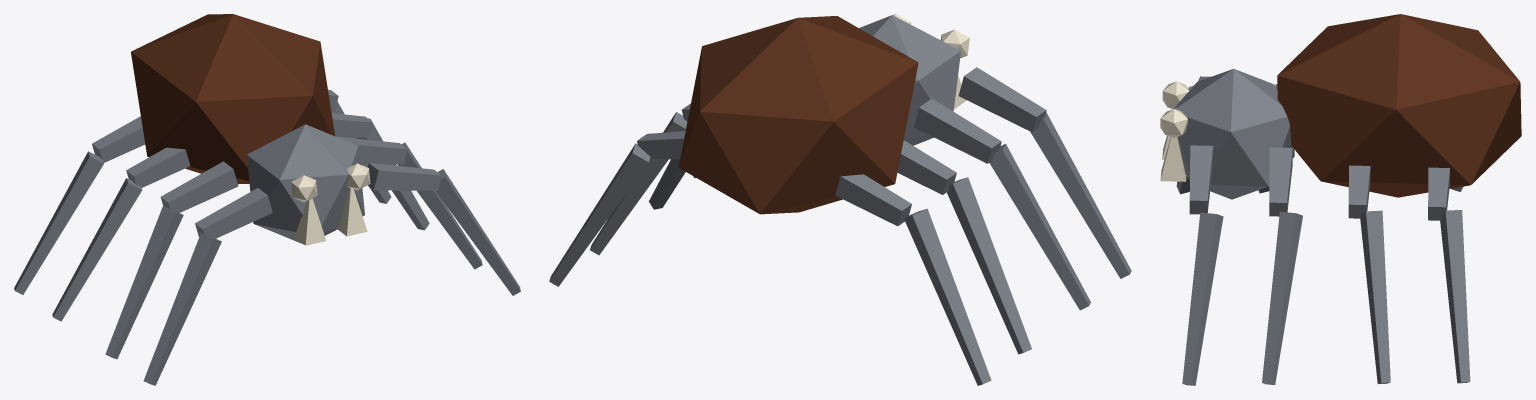
Rendered from npcpose_spider_idle_07.glb.
The picture shows the model from 3 angles, left to right: view 1: azimuth 30°, elevation 25°; view 2: azimuth 150°, elevation 25°; view 3: azimuth 270°, elevation 25°; orthographic projection. The views are drawn at different scales.
Visible parts, largest first — view 1: npcpose; view 2: npcpose; view 3: npcpose.
Boxes of the visible parts, <box> form: npcpose: <box>14,14,520,385</box>; npcpose: <box>549,14,1131,385</box>; npcpose: <box>1160,14,1521,385</box>.
Size of the model in its own units: 1.33 by 0.841 by 0.9998.
